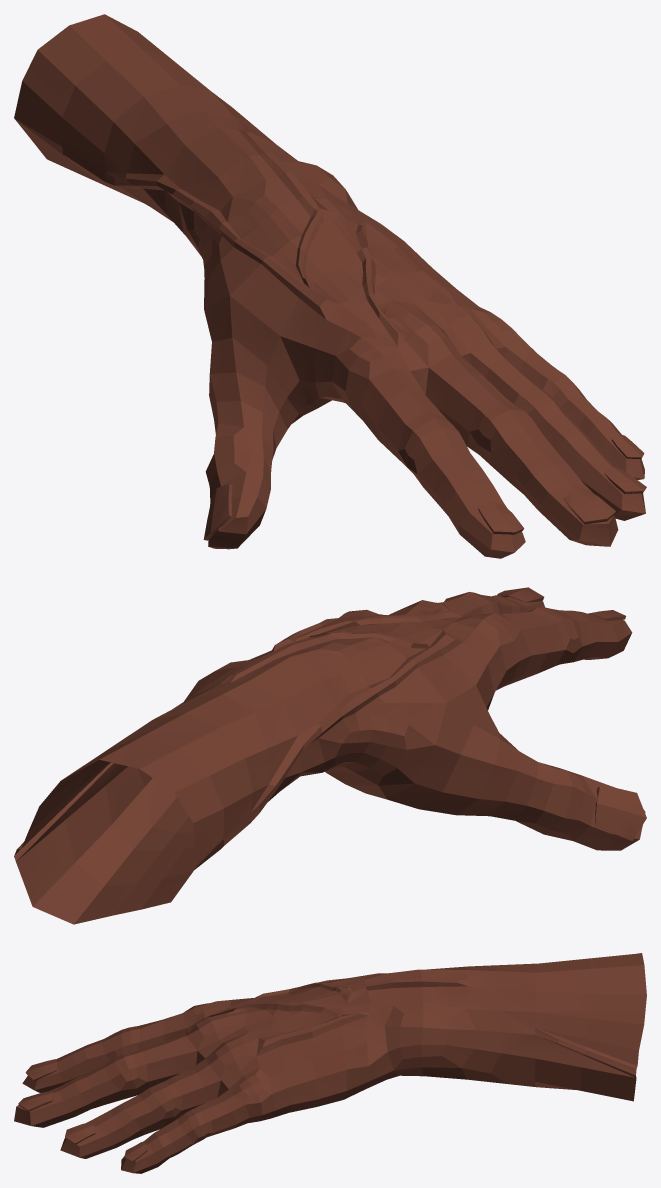
File: 5_6_HandPolygonalLeftBack.obj
3 views of the same model, one above another, from view 1: azimuth 30°, elevation 25°; view 2: azimuth 150°, elevation 25°; view 3: azimuth 270°, elevation 25° (orthographic). The views are drawn at different scales.
Parts seen in each view (by area): view 1: polySurface920.004; view 2: polySurface920.004; view 3: polySurface920.004.
Part boxes in pixels (box(x1,y1,x2,y2)): polySurface920.004: box(14, 14, 646, 558); polySurface920.004: box(14, 587, 646, 924); polySurface920.004: box(14, 953, 646, 1173).
Bounding box in the file's own units: 0.0873 × 0.0587 × 0.1856.
